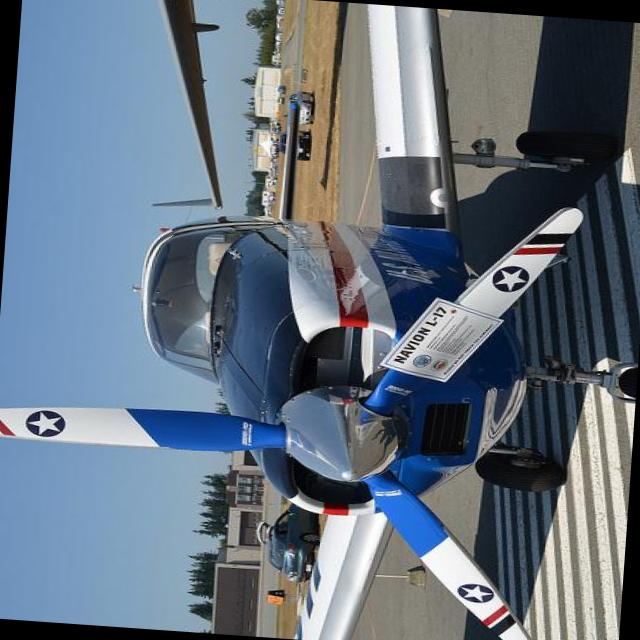aeroplane: (0, 0, 640, 640), (137, 0, 236, 212)
car: (262, 495, 322, 585), (276, 128, 312, 160), (286, 88, 315, 124), (269, 116, 282, 134), (276, 84, 286, 93), (274, 95, 284, 103)
